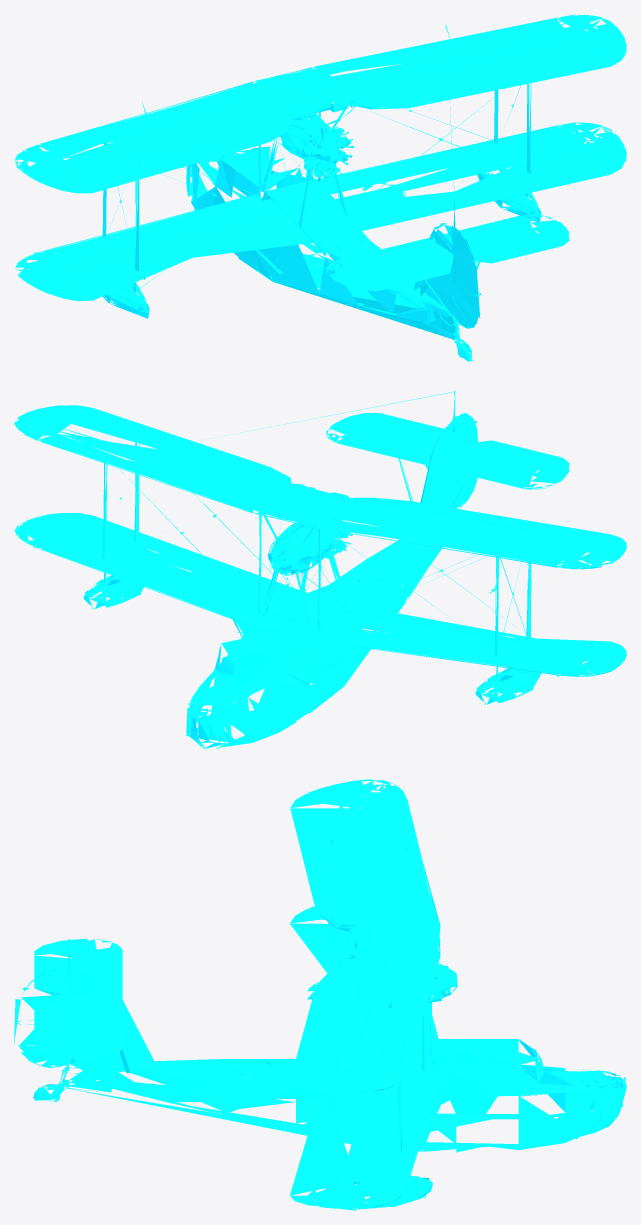
File: PUAS001.glb
3 renders of one model, top to bottom at view 1: azimuth 30°, elevation 25°; view 2: azimuth 150°, elevation 25°; view 3: azimuth 270°, elevation 25°, orthographic. The views are drawn at different scales.
Parts seen in each view (by area): view 1: misc; view 2: misc; view 3: misc.
Boxes of the visible parts, x1,y1,x2,y2 form: misc: (14, 14, 626, 361); misc: (14, 390, 626, 749); misc: (14, 779, 626, 1210).
Size of the model in its own units: 0.9293 by 0.317 by 0.7719.
